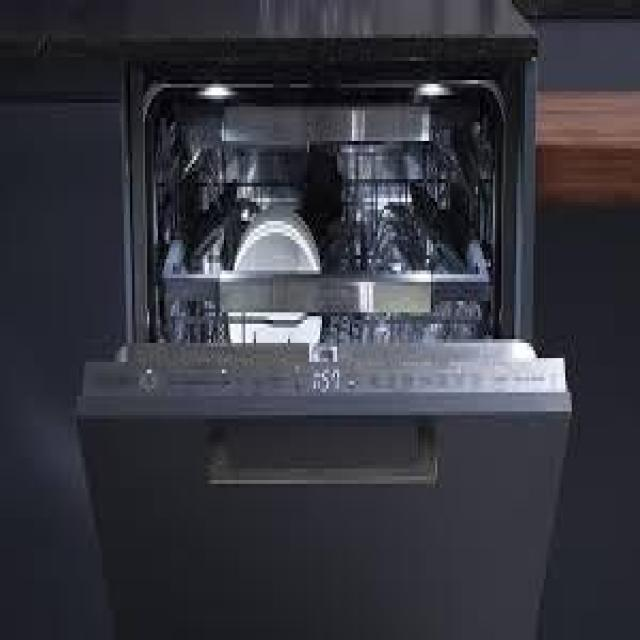dishwasher: (64, 34, 574, 636)
